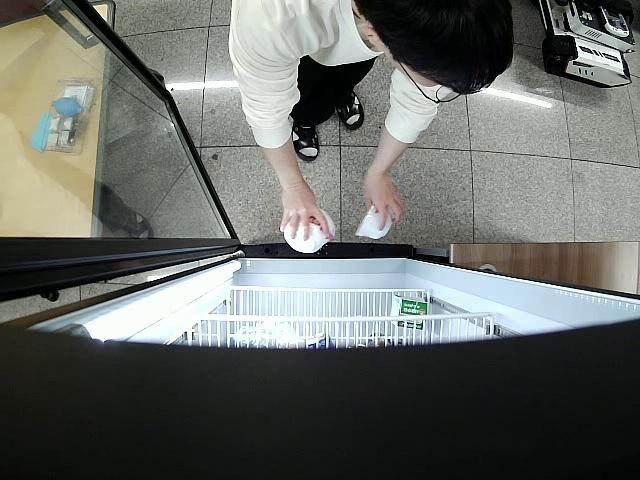09_yukGaeJang: (284, 206, 335, 253), (354, 204, 394, 240)
